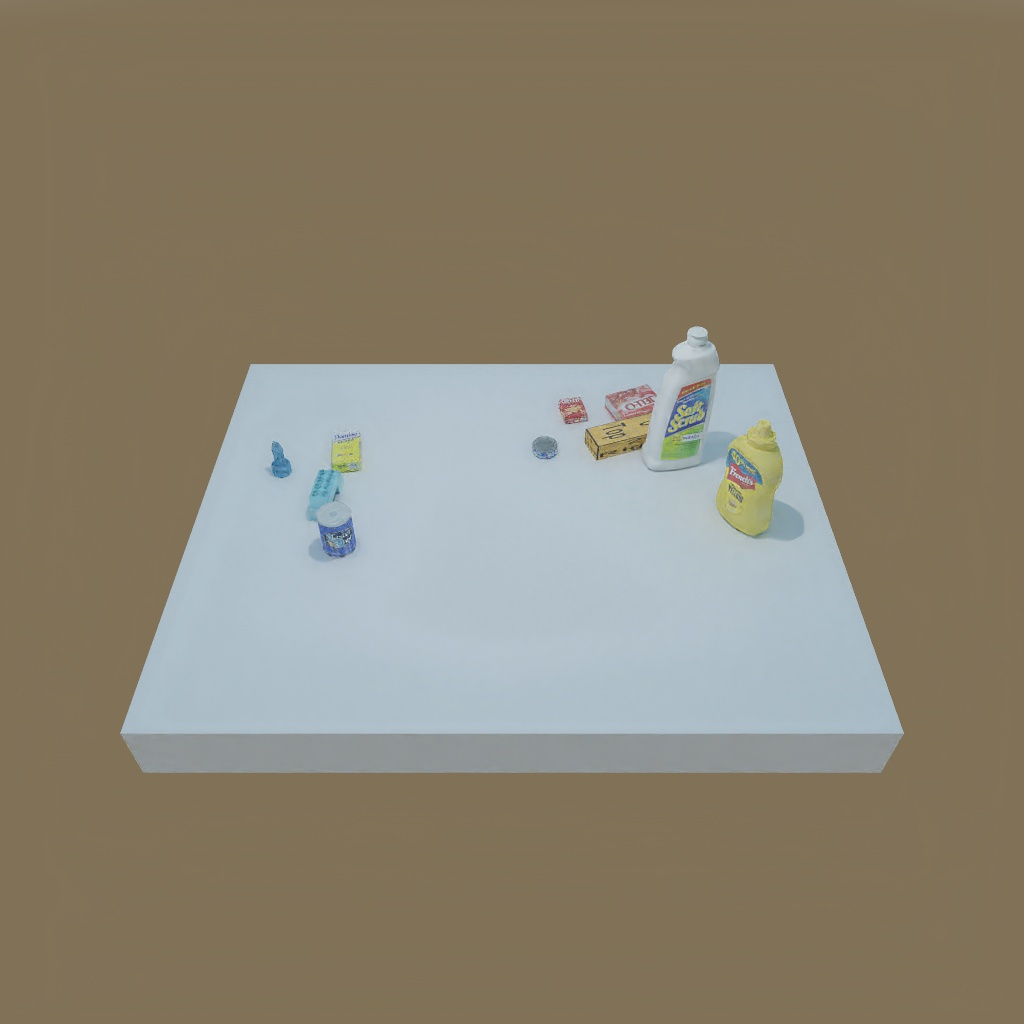gelatin_box: (602, 384, 665, 419)
jenga: (579, 412, 660, 456)
master_chef_can: (313, 500, 362, 565)
mustard_bottle: (714, 419, 774, 538)
